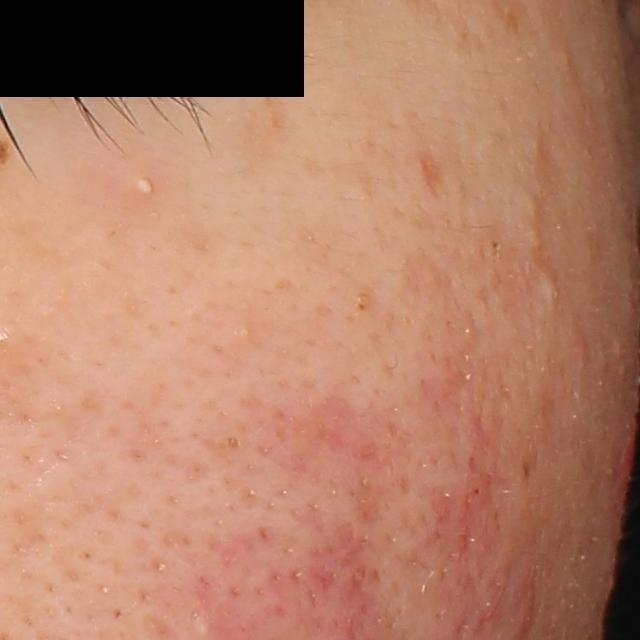comedo: (539, 268, 568, 311), (218, 433, 244, 453), (525, 196, 541, 225), (527, 228, 544, 251), (232, 323, 251, 340), (487, 235, 502, 255)
melasma: (240, 94, 285, 161), (177, 217, 234, 264)
pustule: (118, 165, 161, 205)
